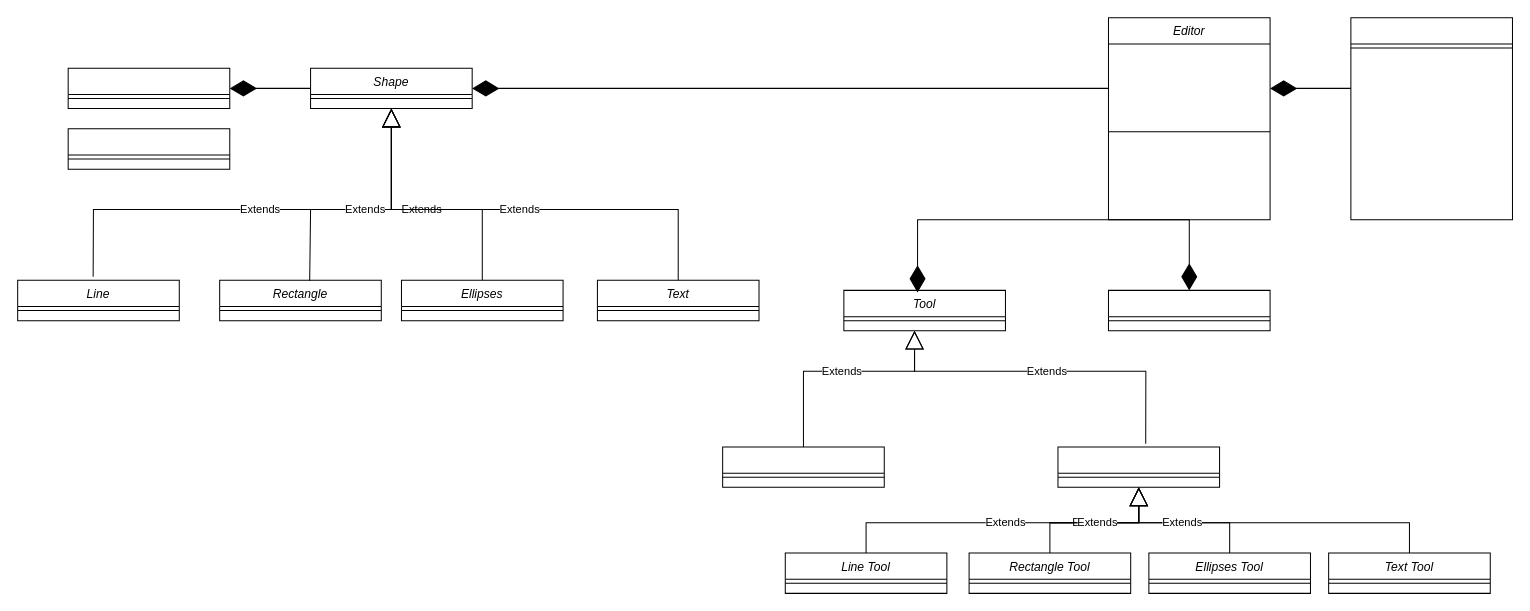
Image size: 1530x611. Some labels were removed from this diagram. Each missing label, with the centre of its shape:
"Control Point" goes at [148,148].
"Creation Tool" goes at [1138,466].
"Cursor" goes at [1188,310].
"Point" goes at [148,88].
"Selection Tool" goes at [803,466].
"User" goes at [1431,118].
